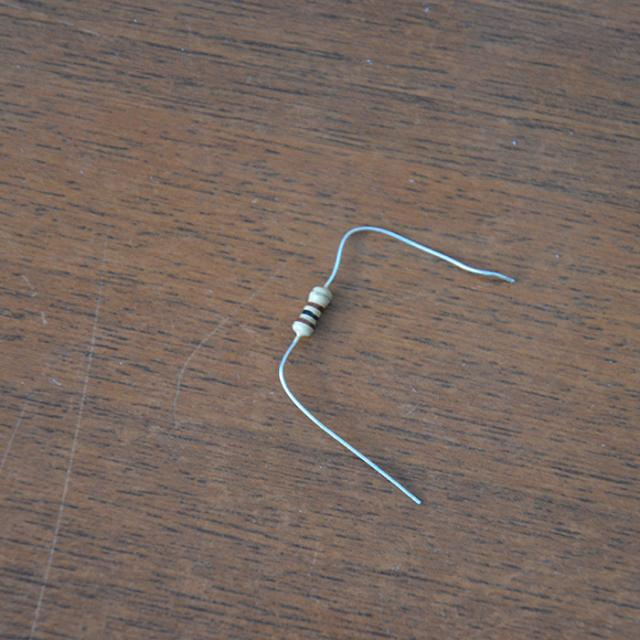Resistor Carbon-Film: (288, 282, 335, 340)
